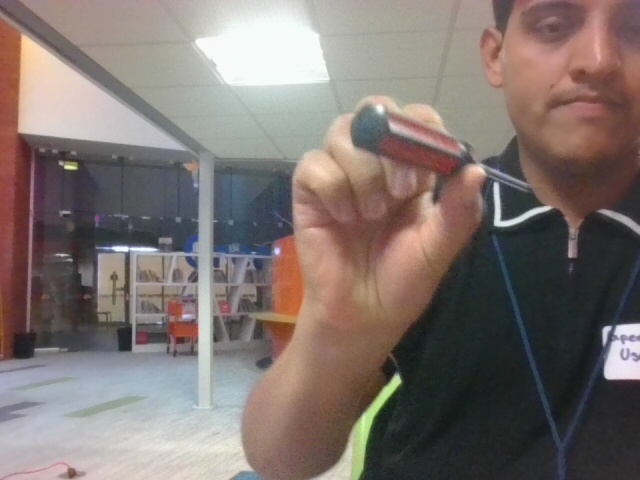destornillador: (354, 100, 535, 207)
